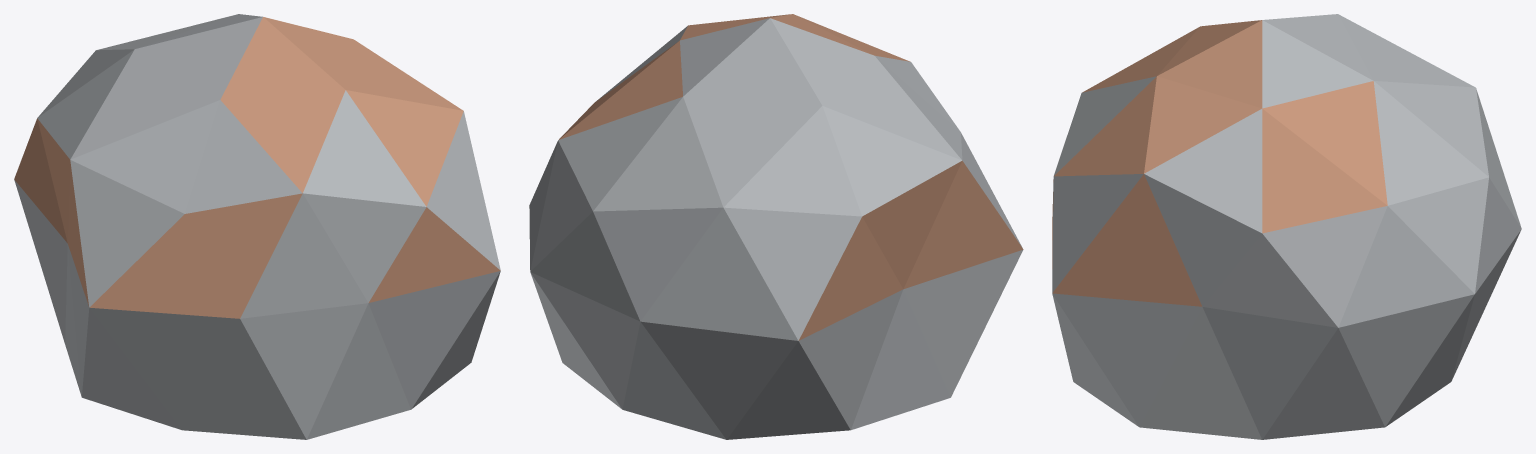
File: SM_MetalOreNode.fbx
3 views of the same model, side by side, from view 1: azimuth 30°, elevation 25°; view 2: azimuth 150°, elevation 25°; view 3: azimuth 270°, elevation 25° (orthographic).
Visible parts, largest first — view 1: SM_MetalOreNode; view 2: SM_MetalOreNode; view 3: SM_MetalOreNode.
Boxes of the visible parts, box(x1,y1,x2,y2) form: SM_MetalOreNode: box(14, 14, 500, 439); SM_MetalOreNode: box(529, 14, 1023, 439); SM_MetalOreNode: box(1052, 14, 1521, 439).
Bounding box in the file's own units: 15436 × 15074 × 11898.
